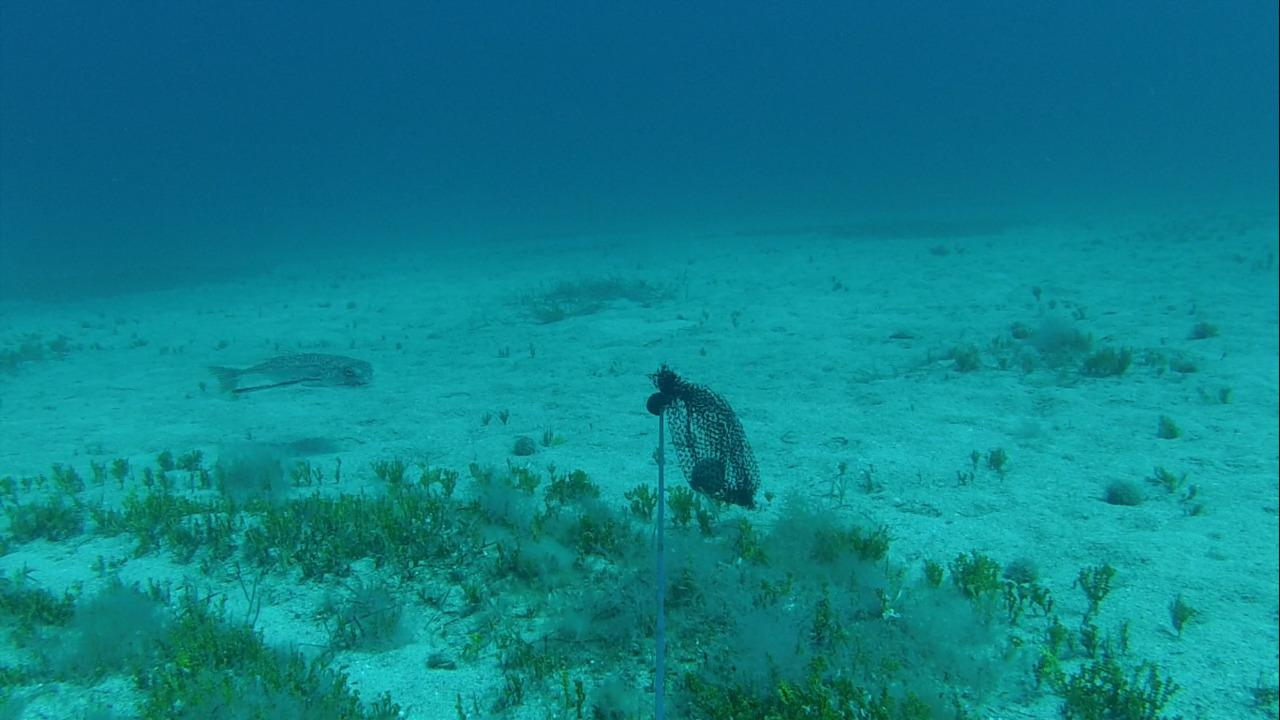dactylopterus: (197, 346, 379, 400)
